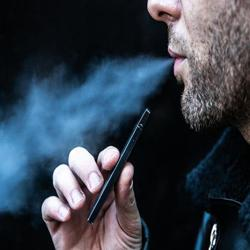smoking: (41, 104, 156, 250)
